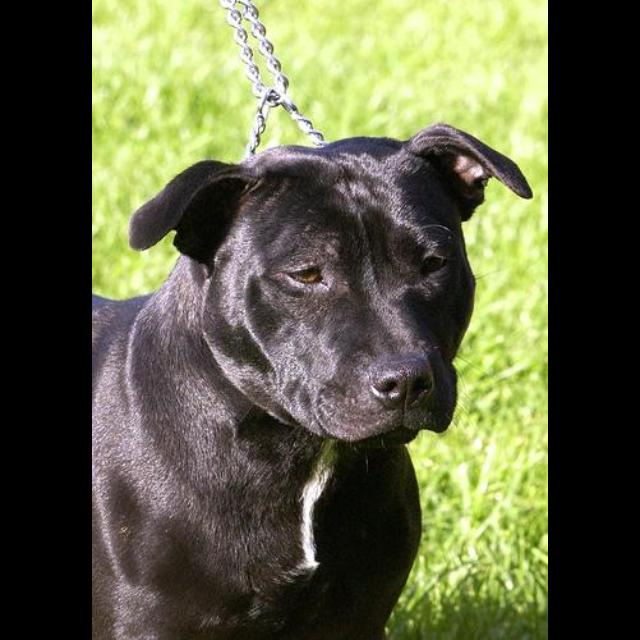staffford: (94, 122, 535, 640)
